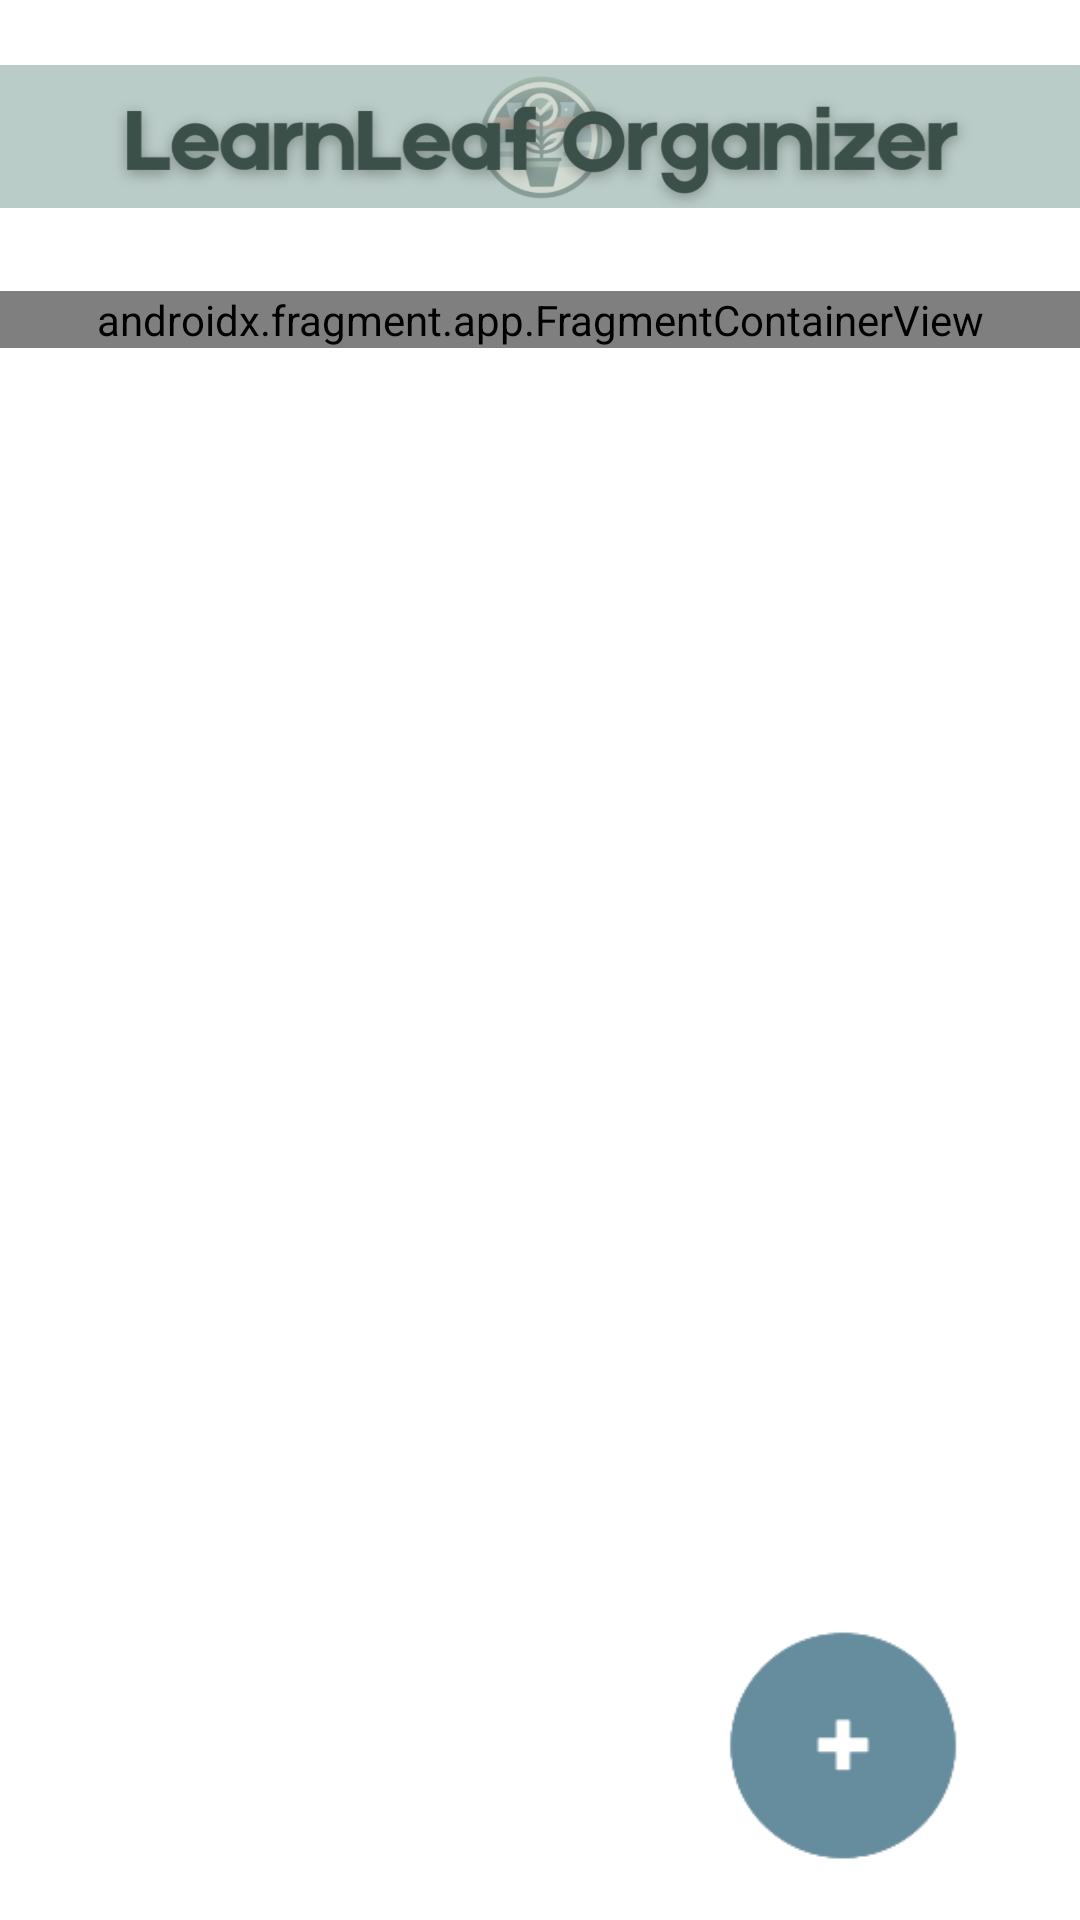

Screen size 1080 x 1920. Icon name, then its center in pixels as (x=x, y=y):
addnew: (x=843, y=1745)
